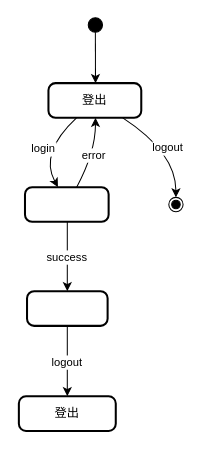
Image size: 201x450. Some labels were removed from this diagram. The centre of each missing label's shape, as x and y in pixels:
"尝试登陆" goes at (x=66, y=204).
"登陆成功" goes at (x=67, y=308).
